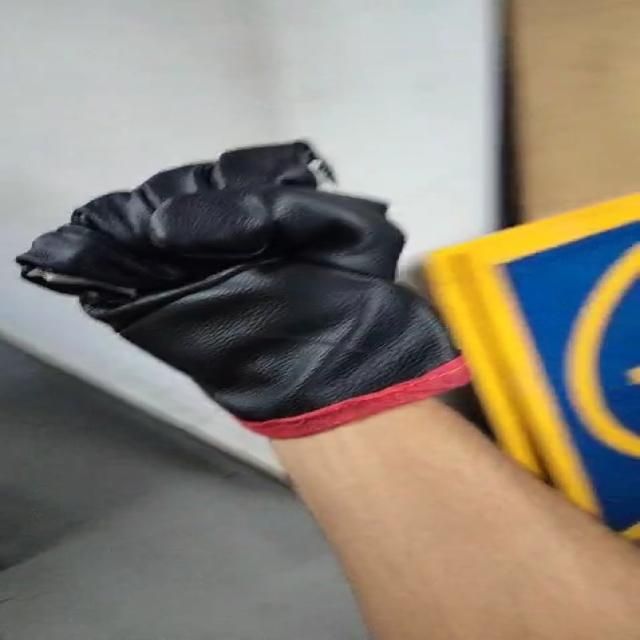Gloves: (21, 142, 472, 440)
